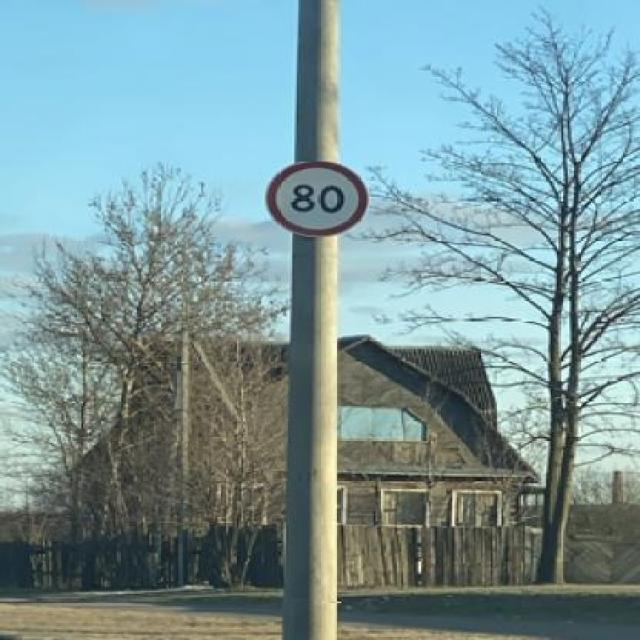forb_speed_over_80: (268, 159, 369, 239)
